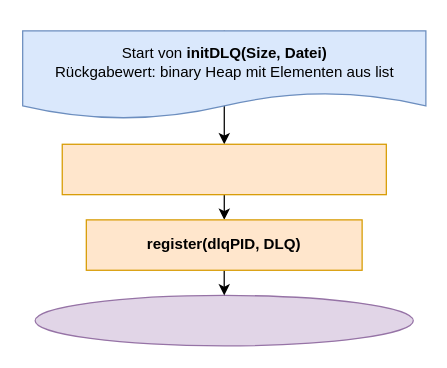
Image size: 447x368. Some labels were removed from this diagram. The centre of each missing label's shape, as x and y in pixels:
"DLQ = spawn(dlq, loop, [ [], Size])" belongs at point (223, 169).
"return [ ]" belongs at point (223, 320).
